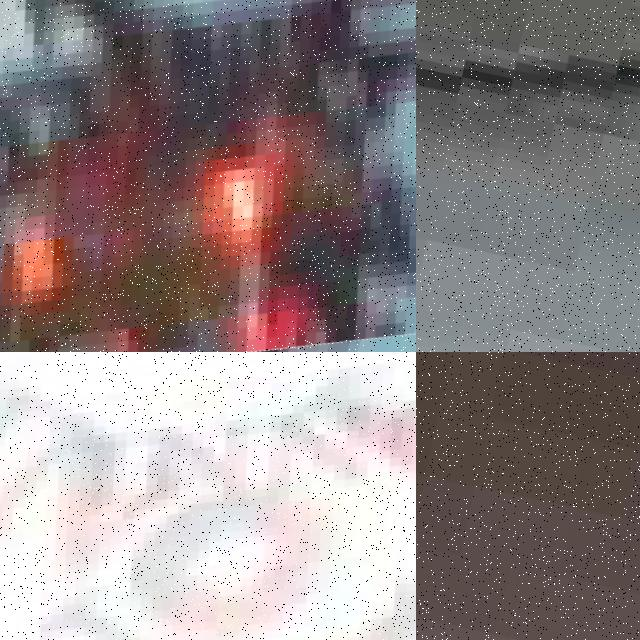drone: (0, 0, 416, 352), (0, 352, 416, 640)
